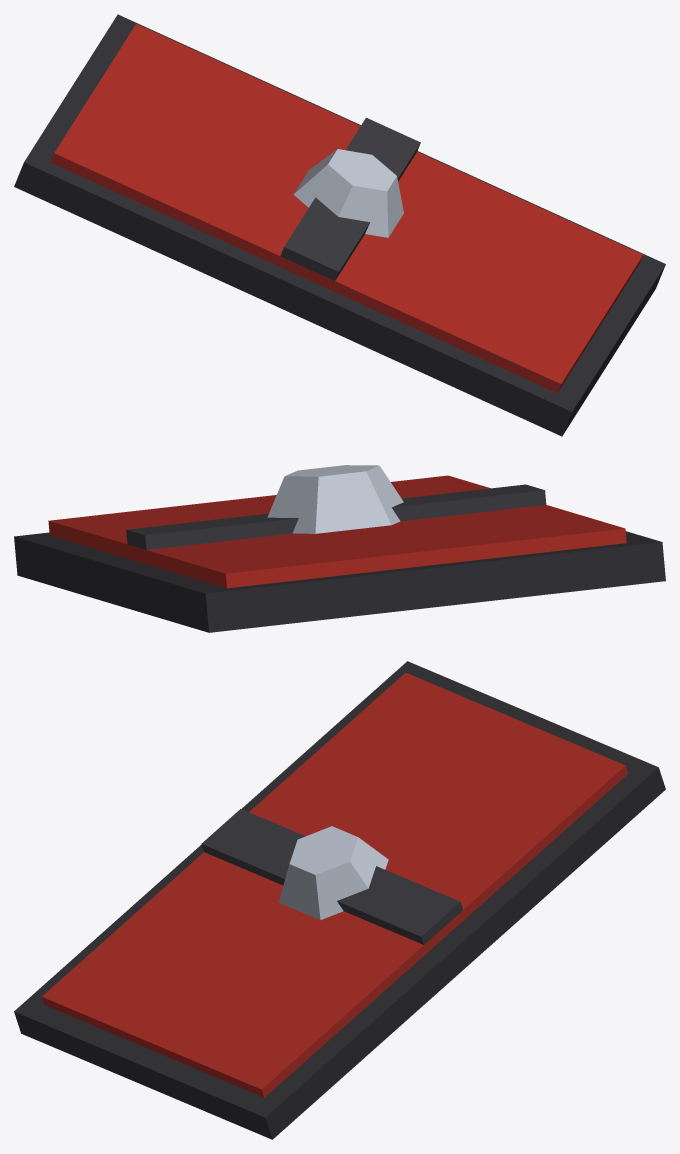
Rendered from tower_shield.glb.
3 views of the same model, one above another, from view 1: azimuth 30°, elevation 25°; view 2: azimuth 150°, elevation 25°; view 3: azimuth 270°, elevation 25° (orthographic). The views are drawn at different scales.
Parts seen in each view (by area): view 1: tower_shield; view 2: tower_shield; view 3: tower_shield.
Boxes of the visible parts, box(x1,y1,x2,y2) form: tower_shield: box(14, 14, 665, 436); tower_shield: box(14, 465, 665, 632); tower_shield: box(14, 661, 665, 1139).
Bounding box in the file's own units: 1.05 × 0.3765 × 1.05.
